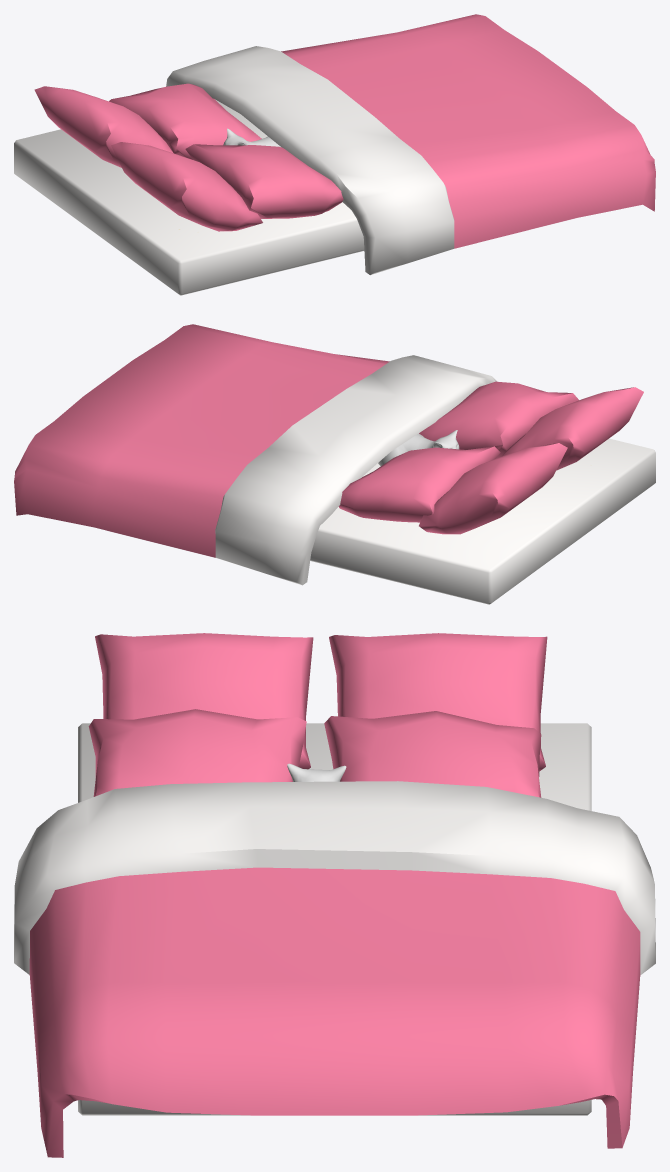
Rendered from Bed_Matt.fbx.
The picture shows the model from 3 angles, top to bottom: view 1: azimuth 30°, elevation 25°; view 2: azimuth 150°, elevation 25°; view 3: azimuth 270°, elevation 25°; orthographic projection. The views are drawn at different scales.
Visible parts, largest first — view 1: Bed_Blanket, Bed_Matt, Bed_Pillow_2, Bed_Pillow_0, Bed_Pillow_3, Bed_Pillow_1, Cat; view 2: Bed_Blanket, Bed_Matt, Bed_Pillow_3, Bed_Pillow_1, Bed_Pillow_2, Bed_Pillow_0, Cat; view 3: Bed_Blanket, Bed_Pillow_1, Bed_Pillow_0, Bed_Pillow_2, Bed_Pillow_3, Bed_Matt, Cat.
Boxes of the visible parts, x1,y1,x2,y2 form: Bed_Blanket: (166,14,655,275); Bed_Matt: (14,99,364,295); Bed_Pillow_2: (185,144,343,218); Bed_Pillow_0: (111,142,262,231); Bed_Pillow_3: (109,83,261,159); Bed_Pillow_1: (34,86,173,167); Cat: (223,128,280,146); Bed_Blanket: (14,324,496,585); Bed_Matt: (310,438,655,604); Bed_Pillow_3: (338,446,500,522); Bed_Pillow_1: (419,443,567,534); Bed_Pillow_2: (419,381,578,458); Bed_Pillow_0: (502,387,643,470); Cat: (378,430,459,465); Bed_Blanket: (14,781,655,1157); Bed_Pillow_1: (329,633,547,771); Bed_Pillow_0: (95,633,313,769); Bed_Pillow_2: (88,709,306,796); Bed_Pillow_3: (324,711,541,797); Bed_Matt: (78,723,591,1115); Cat: (287,763,346,781).
Bounding box in the file's own units: 258 × 63.53 × 193.
